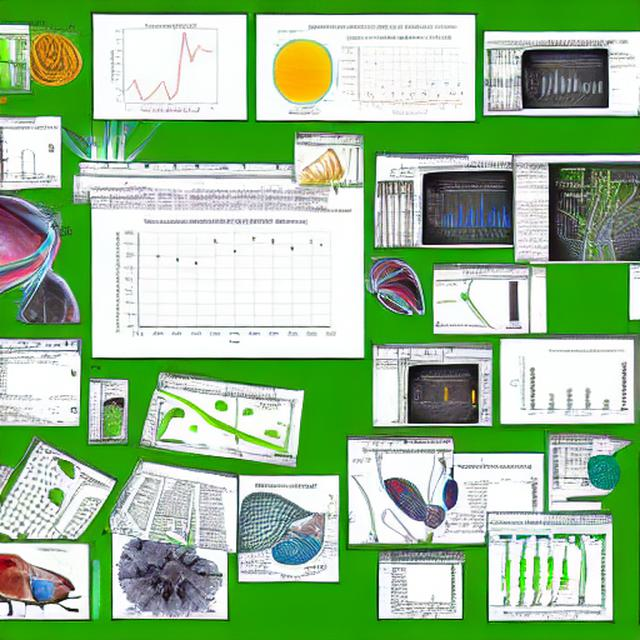Graph: (111, 215, 340, 353), (98, 17, 239, 114), (333, 35, 467, 119), (509, 348, 633, 421), (426, 183, 513, 245), (526, 61, 609, 108), (412, 374, 478, 424)
